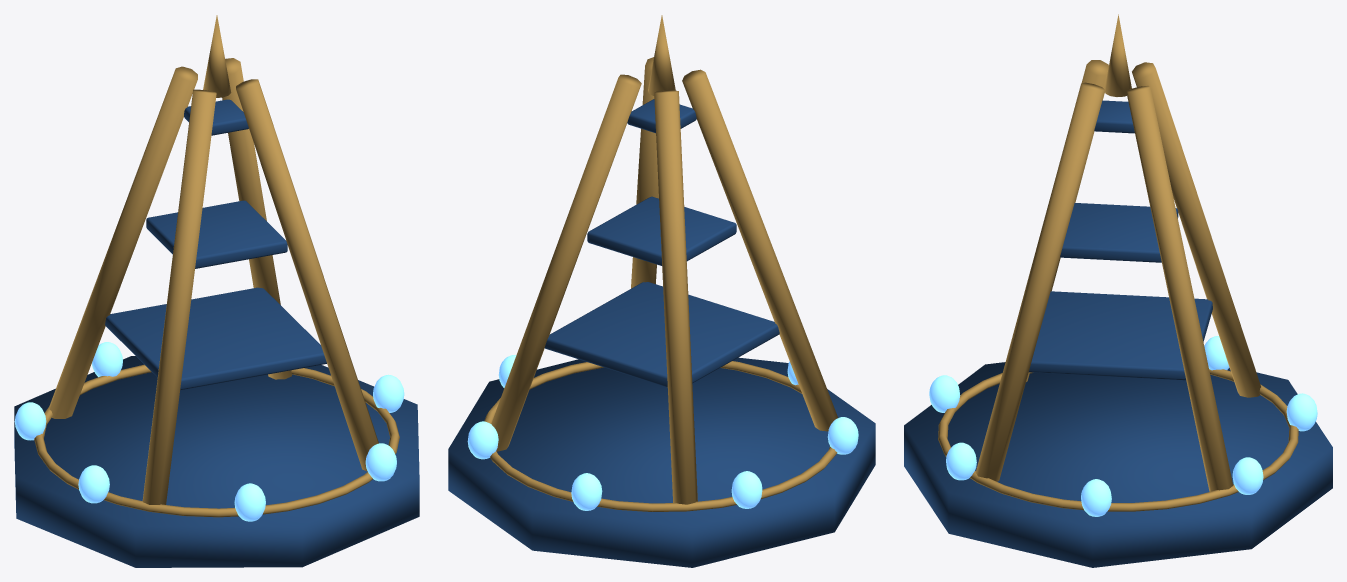
3 renders of one model, left to right at view 1: azimuth 30°, elevation 25°; view 2: azimuth 150°, elevation 25°; view 3: azimuth 270°, elevation 25°, orthographic.
Parts seen in each view (by area): view 1: Hexagonal plinth, Eiffel platform, Eiffel iron leg, Eiffel iron leg.002, Eiffel iron leg.001, Eiffel platform.001, Inlaid rim, Eiffel iron leg.003, Eiffel pinnacle, Eiffel platform.002, Garden inlay.004, Garden inlay.005 (+4 smaller); view 2: Hexagonal plinth, Eiffel platform, Eiffel iron leg.001, Eiffel iron leg, Eiffel iron leg.003, Eiffel platform.001, Inlaid rim, Eiffel iron leg.002, Eiffel pinnacle, Garden inlay.003, Eiffel platform.002, Garden inlay.002 (+2 smaller); view 3: Hexagonal plinth, Eiffel platform, Eiffel iron leg.002, Eiffel iron leg.003, Eiffel iron leg.001, Eiffel platform.001, Inlaid rim, Eiffel pinnacle, Eiffel platform.002, Garden inlay.006, Garden inlay.001, Garden inlay (+4 smaller).
Boxes of the visible parts, <box> form: Hexagonal plinth: <box>14,356,419,567</box>; Eiffel platform: <box>105,287,326,390</box>; Eiffel iron leg: <box>142,89,216,511</box>; Eiffel iron leg.002: <box>236,79,378,471</box>; Eiffel iron leg.001: <box>49,66,197,418</box>; Eiffel platform.001: <box>146,200,287,268</box>; Inlaid rim: <box>34,364,399,517</box>; Eiffel iron leg.003: <box>222,58,291,379</box>; Eiffel pinnacle: <box>203,15,231,97</box>; Eiffel platform.002: <box>184,99,248,135</box>; Garden inlay.004: <box>78,465,109,503</box>; Garden inlay.005: <box>234,483,265,521</box>; Hexagonal plinth: <box>448,357,875,567</box>; Eiffel platform: <box>544,282,779,387</box>; Eiffel iron leg.001: <box>654,90,697,510</box>; Eiffel iron leg: <box>682,69,837,431</box>; Eiffel iron leg.003: <box>491,74,641,451</box>; Eiffel platform.001: <box>587,196,736,265</box>; Inlaid rim: <box>484,361,837,511</box>; Eiffel iron leg.002: <box>631,57,658,288</box>; Eiffel pinnacle: <box>648,15,675,95</box>; Garden inlay.003: <box>731,471,762,508</box>; Eiffel platform.002: <box>627,99,696,133</box>; Garden inlay.002: <box>571,473,602,510</box>; Hexagonal plinth: <box>904,362,1332,567</box>; Eiffel platform: <box>1029,291,1212,380</box>; Eiffel iron leg.002: <box>975,82,1104,482</box>; Eiffel iron leg.003: <box>1126,86,1233,495</box>; Eiffel iron leg.001: <box>1132,62,1260,397</box>; Eiffel platform.001: <box>1060,203,1178,262</box>; Inlaid rim: <box>938,369,1298,511</box>; Eiffel pinnacle: <box>1104,14,1131,96</box>; Eiffel platform.002: <box>1094,100,1134,133</box>; Garden inlay.006: <box>946,442,976,480</box>; Garden inlay.001: <box>1232,457,1263,494</box>; Garden inlay: <box>1081,479,1111,516</box>.
Bounding box in the file's own units: 1.51 × 1.8 × 1.51.
